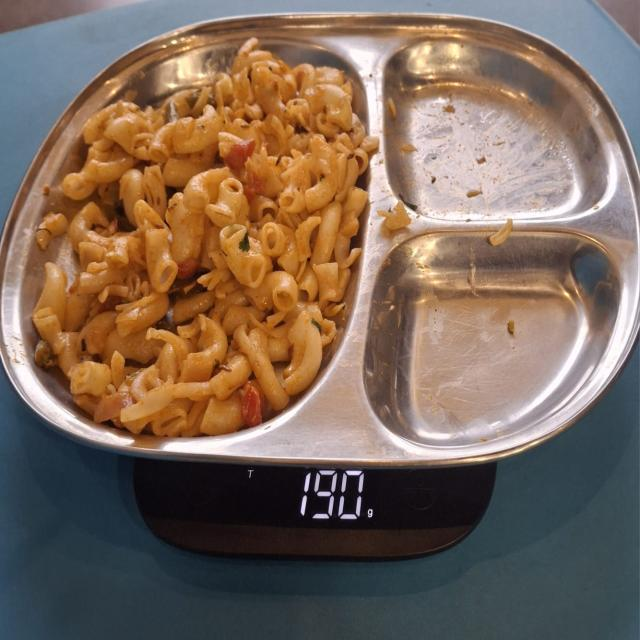Pasta: (32, 41, 368, 442)
